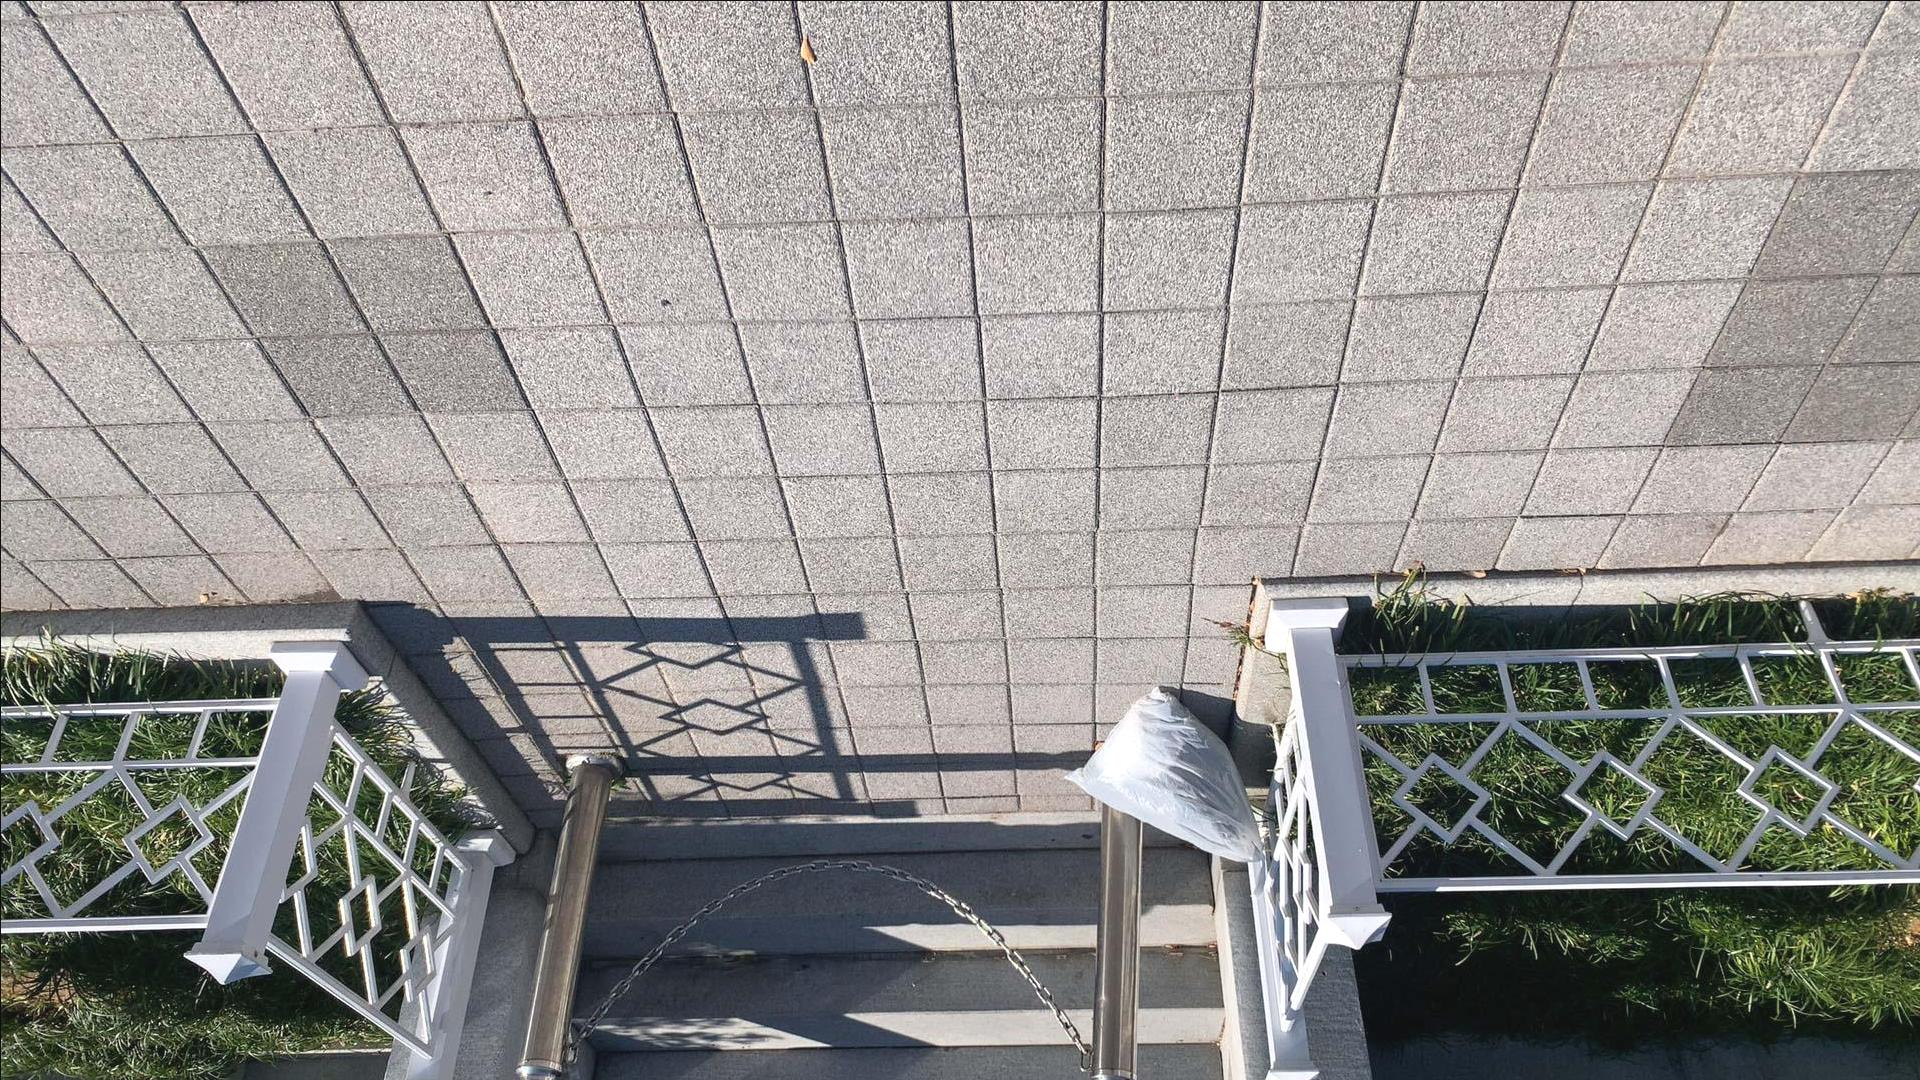white_bag: (1054, 670, 1279, 878)
